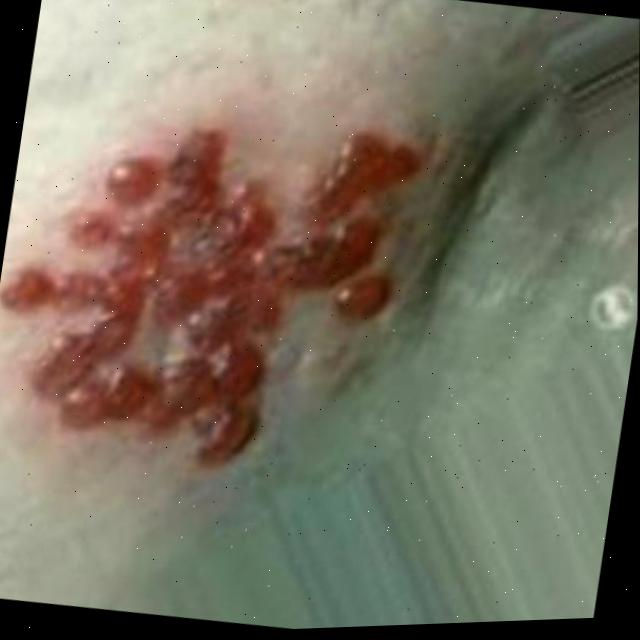Shingles: (0, 45, 448, 502)
